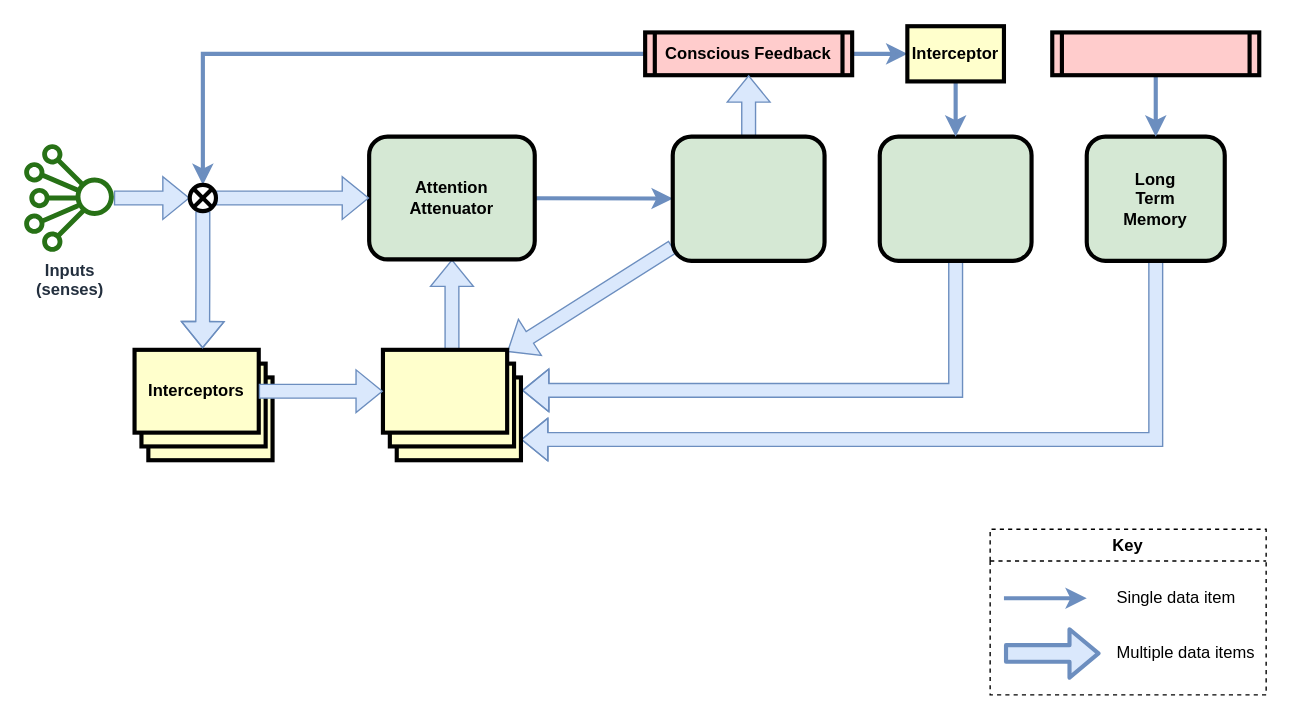
Some shapes in this 1290 by 719 pixel diagram are drawn without their labels. The shapes that lost their labels are listed below. From the top down, each one's centre as x and y in pixels, then its label:
point 1155,53: ?? Learning ??
point 748,198: Working Memory
point 955,198: Short Term Memory
point 444,390: Processors
